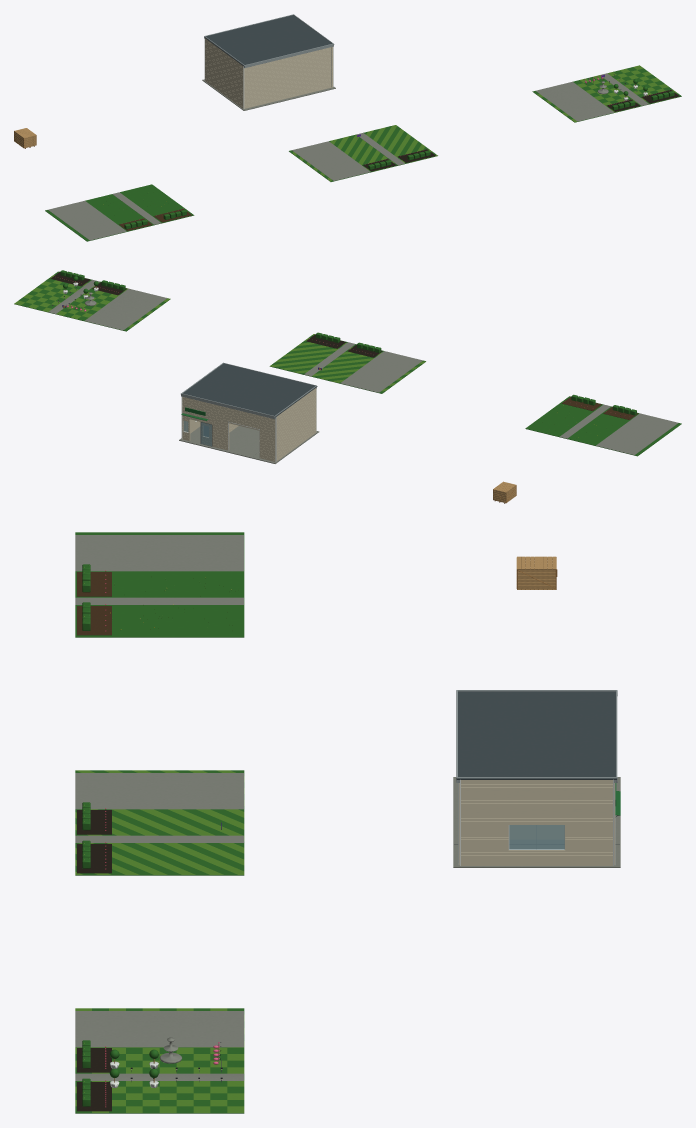
File: 40_Fixes.gltf
3 views of the same model, one above another, from view 1: azimuth 30°, elevation 25°; view 2: azimuth 150°, elevation 25°; view 3: azimuth 270°, elevation 25° (orthographic). The views are drawn at different scales.
Visible parts, largest first — view 1: SmallOffice__Body, SmallOffice__Roof, GloriaYard_Stage3__Body, GloriaYard_Stage1__Body, GloriaYard_Stage2__Body, GloriaYard_Stage1__Lawn, GloriaYard_Stage2__Lawn, GloriaYard_Stage3__Lawn; view 2: SmallOffice__Body, SmallOffice__Roof, GloriaYard_Stage3__Body, GloriaYard_Stage1__Body, GloriaYard_Stage2__Body, GloriaYard_Stage2__Lawn, GloriaYard_Stage1__Lawn, GloriaYard_Stage3__Lawn, SmallOffice__Floor; view 3: SmallOffice__Roof, SmallOffice__Body, GloriaYard_Stage3__Body, GloriaYard_Stage1__Body, GloriaYard_Stage2__Body, GloriaYard_Stage1__Lawn, GloriaYard_Stage2__Lawn, GloriaYard_Stage3__Lawn, SmallOffice__Floor, SmallOffice__Glass_OfficeSide, SmallOffice, DeliveryCrate__Body.
Part boxes in pixels (x1,y1,x2,y2): SmallOffice__Body: [204, 14, 333, 108]; SmallOffice__Roof: [204, 15, 334, 66]; GloriaYard_Stage3__Body: [536, 73, 679, 121]; GloriaYard_Stage1__Body: [48, 192, 191, 240]; GloriaYard_Stage2__Body: [292, 133, 435, 180]; GloriaYard_Stage1__Lawn: [45, 184, 194, 241]; GloriaYard_Stage2__Lawn: [289, 125, 437, 181]; GloriaYard_Stage3__Lawn: [532, 65, 681, 122]; SmallOffice__Body: [181, 362, 316, 461]; SmallOffice__Roof: [183, 363, 317, 417]; GloriaYard_Stage3__Body: [48, 270, 167, 330]; GloriaYard_Stage1__Body: [549, 394, 678, 454]; GloriaYard_Stage2__Body: [304, 332, 422, 392]; GloriaYard_Stage2__Lawn: [269, 334, 425, 393]; GloriaYard_Stage1__Lawn: [525, 396, 681, 456]; GloriaYard_Stage3__Lawn: [14, 271, 170, 331]; SmallOffice__Floor: [179, 426, 319, 463]; SmallOffice__Roof: [456, 691, 617, 779]; SmallOffice__Body: [454, 690, 620, 865]; GloriaYard_Stage3__Body: [75, 1011, 243, 1111]; GloriaYard_Stage1__Body: [75, 535, 243, 635]; GloriaYard_Stage2__Body: [75, 773, 243, 873]; GloriaYard_Stage1__Lawn: [75, 532, 244, 637]; GloriaYard_Stage2__Lawn: [75, 770, 244, 875]; GloriaYard_Stage3__Lawn: [75, 1008, 244, 1113]; SmallOffice__Floor: [453, 777, 620, 867]; SmallOffice__Glass_OfficeSide: [509, 825, 564, 849]; SmallOffice: [508, 783, 614, 865]; DeliveryCrate__Body: [517, 557, 556, 589].
Bounding box in the file's own units: 68.32 × 4.91 × 27.13.
6 materials, 5 textured.
